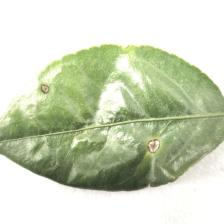canker: (35, 77, 164, 156)
